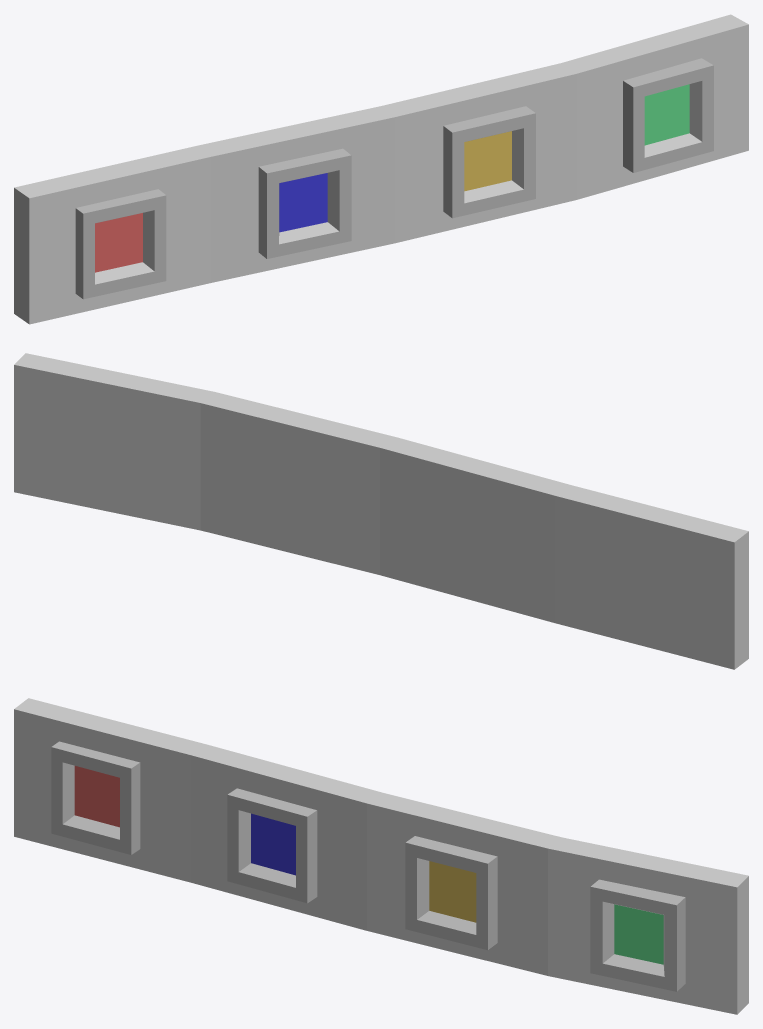
The model's file is lightStrip.glb.
The picture shows the model from 3 angles, top to bottom: view 1: azimuth 30°, elevation 25°; view 2: azimuth 150°, elevation 25°; view 3: azimuth 330°, elevation 25°; orthographic projection.
Parts seen in each view (by area): view 1: back, lights; view 2: back; view 3: back, lights.
Boxes of the visible parts, x1,y1,x2,y2 form: back: [14, 14, 748, 324]; lights: [75, 58, 713, 299]; back: [14, 353, 748, 669]; back: [14, 698, 748, 1014]; lights: [51, 741, 685, 991].
Size of the model in its own units: 4.52 by 0.7579 by 0.3654.
